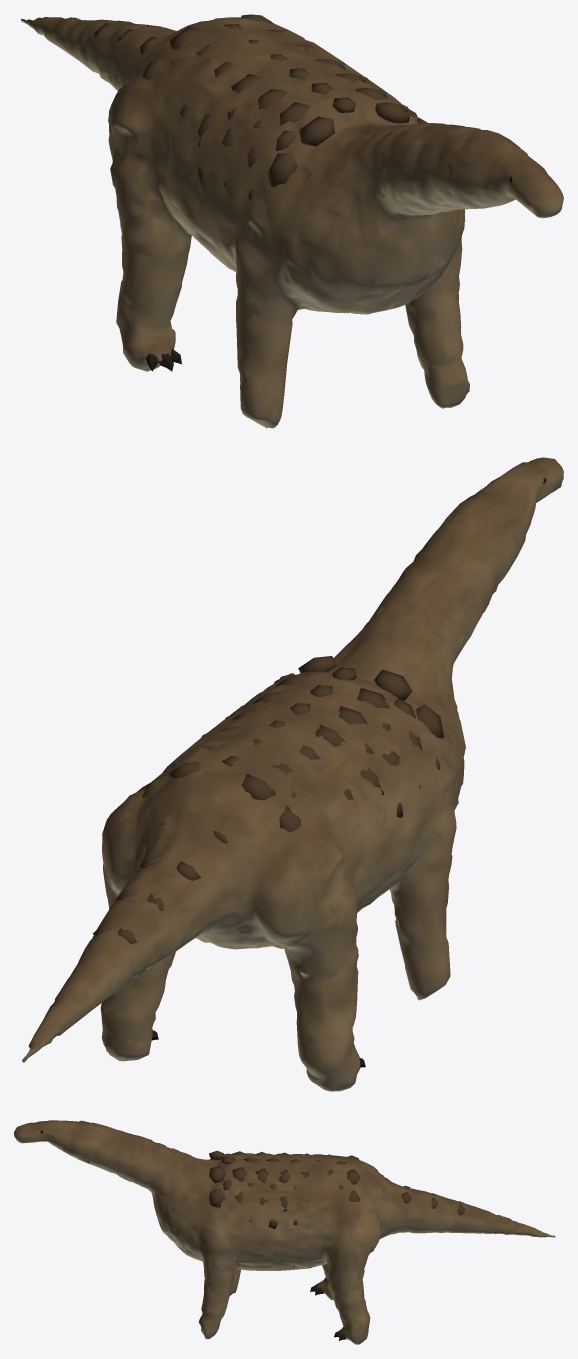
The model's file is Saltasaurus.fbx.
3 renders of one model, top to bottom at view 1: azimuth 30°, elevation 25°; view 2: azimuth 150°, elevation 25°; view 3: azimuth 270°, elevation 25°, orthographic. The views are drawn at different scales.
Parts seen in each view (by area): view 1: Saltasaurus; view 2: Saltasaurus; view 3: Saltasaurus.
Part boxes in pixels (box(x1,y1,x2,y2)): Saltasaurus: box(21, 14, 563, 428); Saltasaurus: box(22, 457, 563, 1091); Saltasaurus: box(14, 1120, 555, 1344).
Size of the model in its own units: 0.457 by 0.7396 by 1.84.
